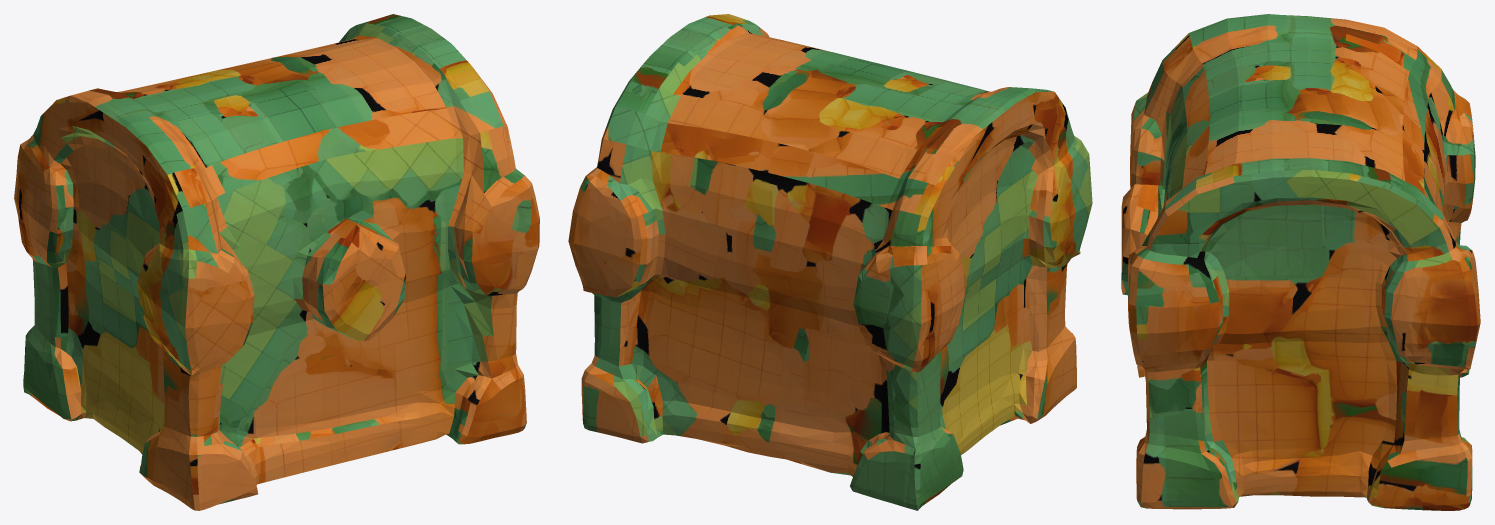
Rendered from chest closed 2.obj.
The picture shows the model from 3 angles, left to right: view 1: azimuth 30°, elevation 25°; view 2: azimuth 150°, elevation 25°; view 3: azimuth 270°, elevation 25°; orthographic projection.
Visible parts, largest first — view 1: tripo_node_d23dd22c-f66b-4f78-bf7b-78d1f9bd749b; view 2: tripo_node_d23dd22c-f66b-4f78-bf7b-78d1f9bd749b; view 3: tripo_node_d23dd22c-f66b-4f78-bf7b-78d1f9bd749b.
Boxes of the visible parts, x1,y1,x2,y2 form: tripo_node_d23dd22c-f66b-4f78-bf7b-78d1f9bd749b: (14, 14, 539, 510); tripo_node_d23dd22c-f66b-4f78-bf7b-78d1f9bd749b: (568, 14, 1092, 510); tripo_node_d23dd22c-f66b-4f78-bf7b-78d1f9bd749b: (1121, 14, 1480, 510).
Size of the model in its own units: 0.9985 by 0.8962 by 0.8653.
